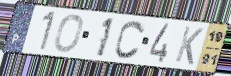1: (96, 17, 115, 58), (39, 10, 57, 52)
4: (148, 22, 170, 64)
C: (113, 19, 147, 61)
K: (173, 25, 205, 67)
O: (52, 13, 85, 54)
